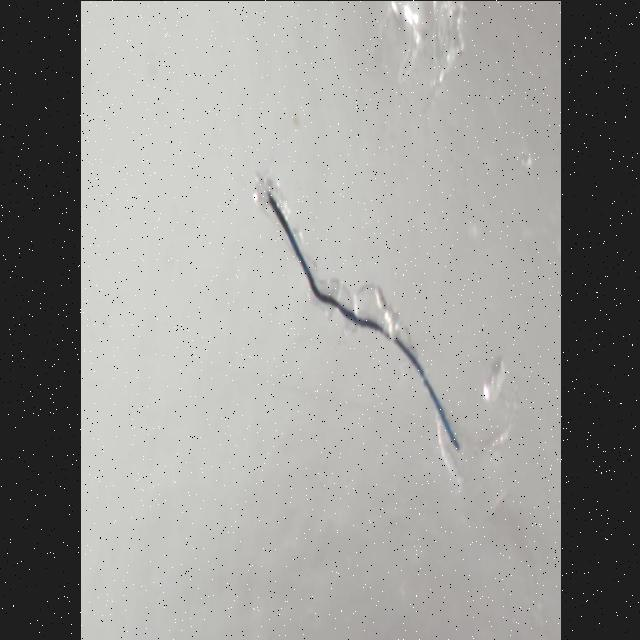Fibre: (257, 164, 467, 466)
